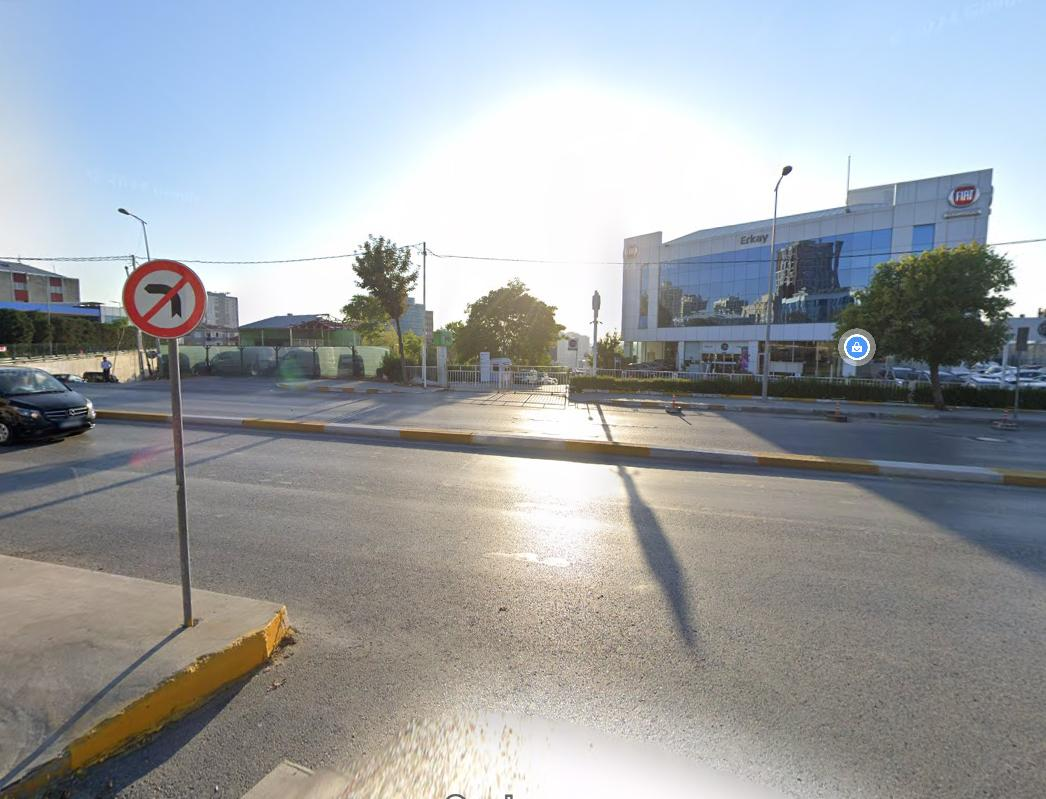leftturnsareforbidden: (123, 259, 207, 337)
